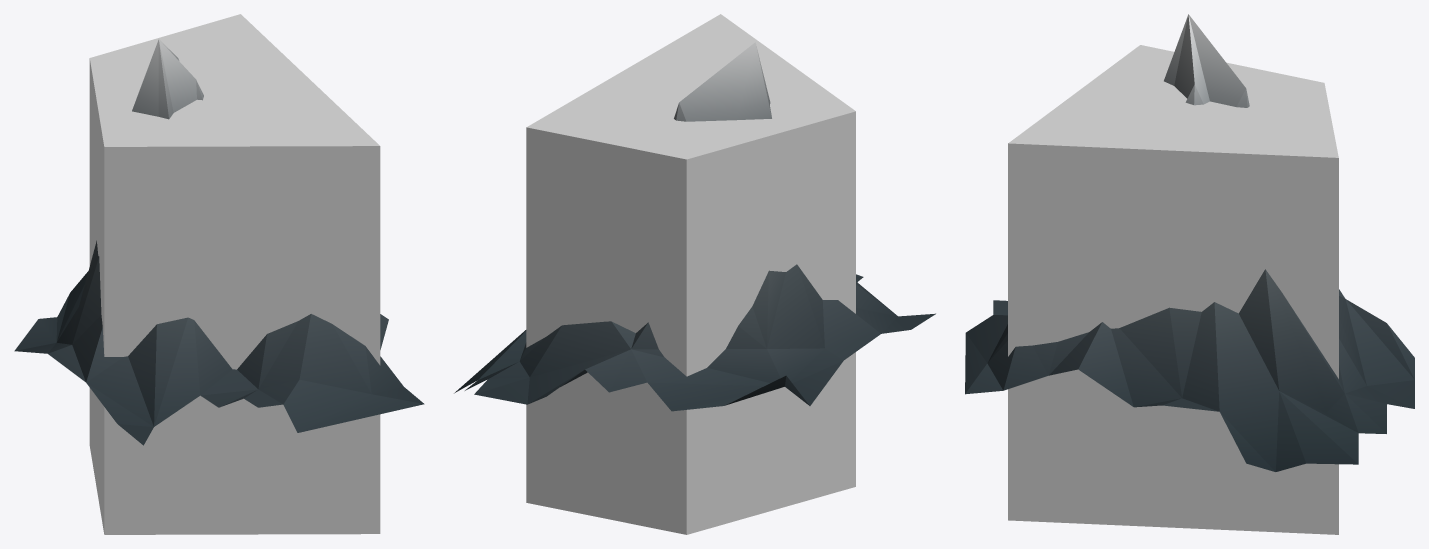
File: island_small_rock_Collection_10.fbx
The picture shows the model from 3 angles, left to right: view 1: azimuth 30°, elevation 25°; view 2: azimuth 150°, elevation 25°; view 3: azimuth 270°, elevation 25°; orthographic projection. The views are drawn at different scales.
Visible parts, largest first — view 1: islandRock_10_col, islandRock_10; view 2: islandRock_10_col, islandRock_10; view 3: islandRock_10_col, islandRock_10.
Part boxes in pixels (x1,y1,x2,y2): islandRock_10_col: [89, 14, 380, 534]; islandRock_10: [14, 39, 424, 445]; islandRock_10_col: [526, 14, 855, 534]; islandRock_10: [454, 42, 935, 411]; islandRock_10_col: [1008, 45, 1338, 534]; islandRock_10: [965, 14, 1414, 471].
Bounding box in the file's own units: 2038 × 2739 × 2508.
